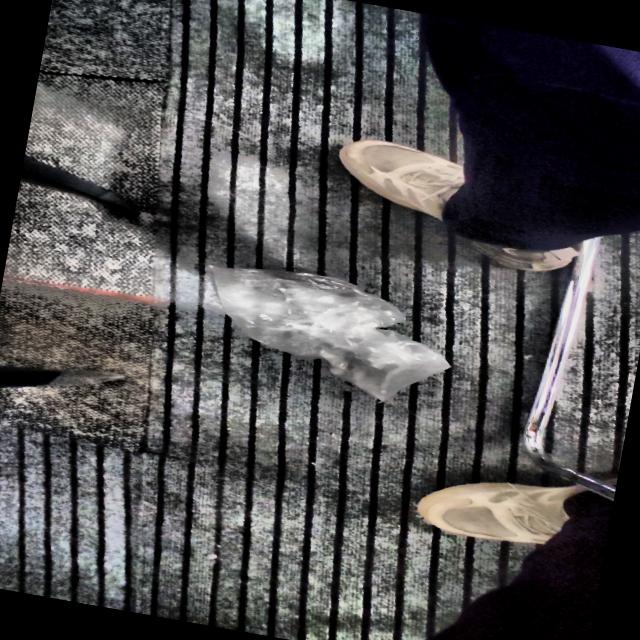plastic bag: (210, 266, 449, 400)
